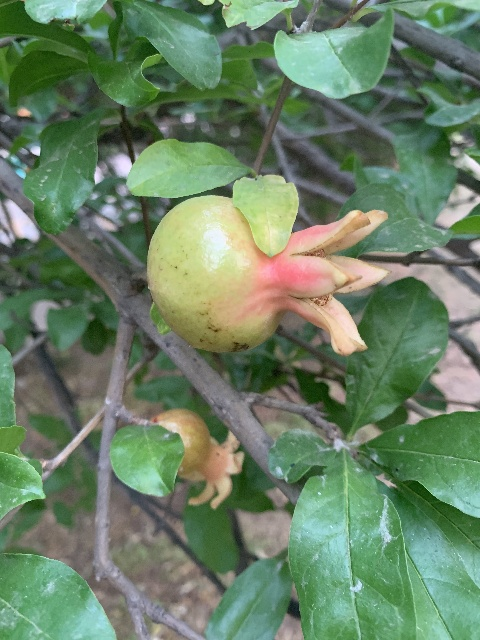early-fruit: (153, 408, 243, 509)
mid-growth: (146, 193, 390, 355)
